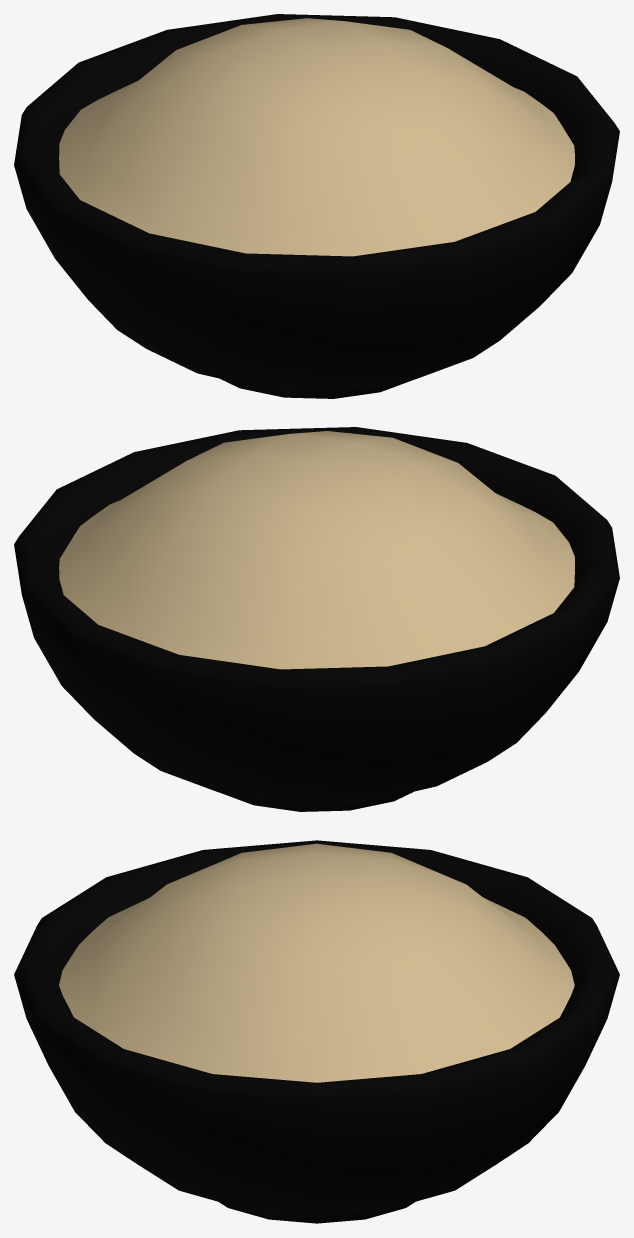
File: ASFTR_Bowl_Rice.fbx
3 views of the same model, one above another, from view 1: azimuth 30°, elevation 25°; view 2: azimuth 150°, elevation 25°; view 3: azimuth 270°, elevation 25° (orthographic).
Visible parts, largest first — view 1: ASFTR_Bowl_Rice; view 2: ASFTR_Bowl_Rice; view 3: ASFTR_Bowl_Rice.
Boxes of the visible parts, left/top/right/bottom form: ASFTR_Bowl_Rice: left=14, top=14, right=619, bottom=398; ASFTR_Bowl_Rice: left=14, top=427, right=619, bottom=811; ASFTR_Bowl_Rice: left=14, top=840, right=619, bottom=1223.
Size of the model in its own units: 60.78 by 32.29 by 60.78.
